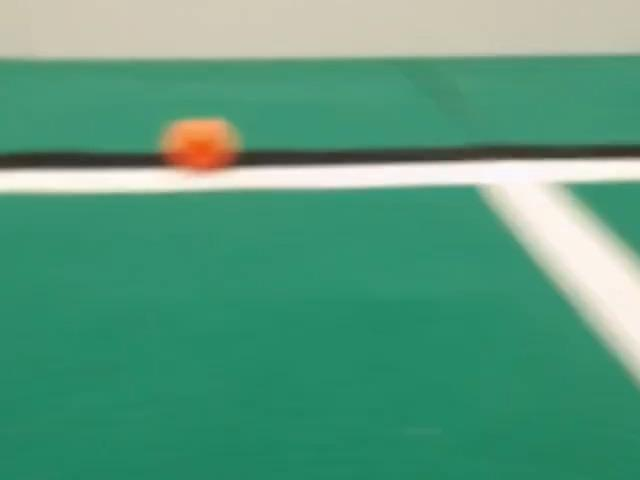Ball: (162, 118, 238, 170)
